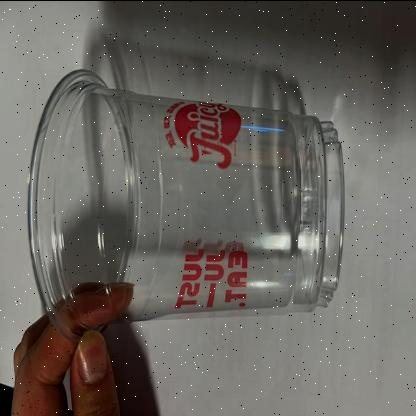Others: (24, 67, 346, 346)
